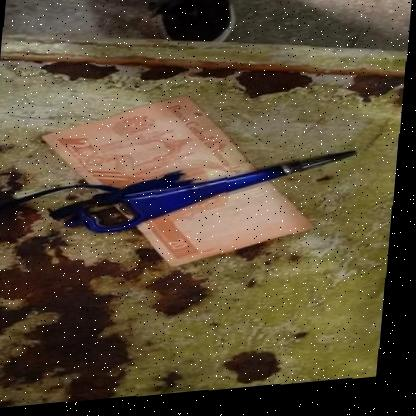twenty-back-vef: (35, 86, 327, 283)
